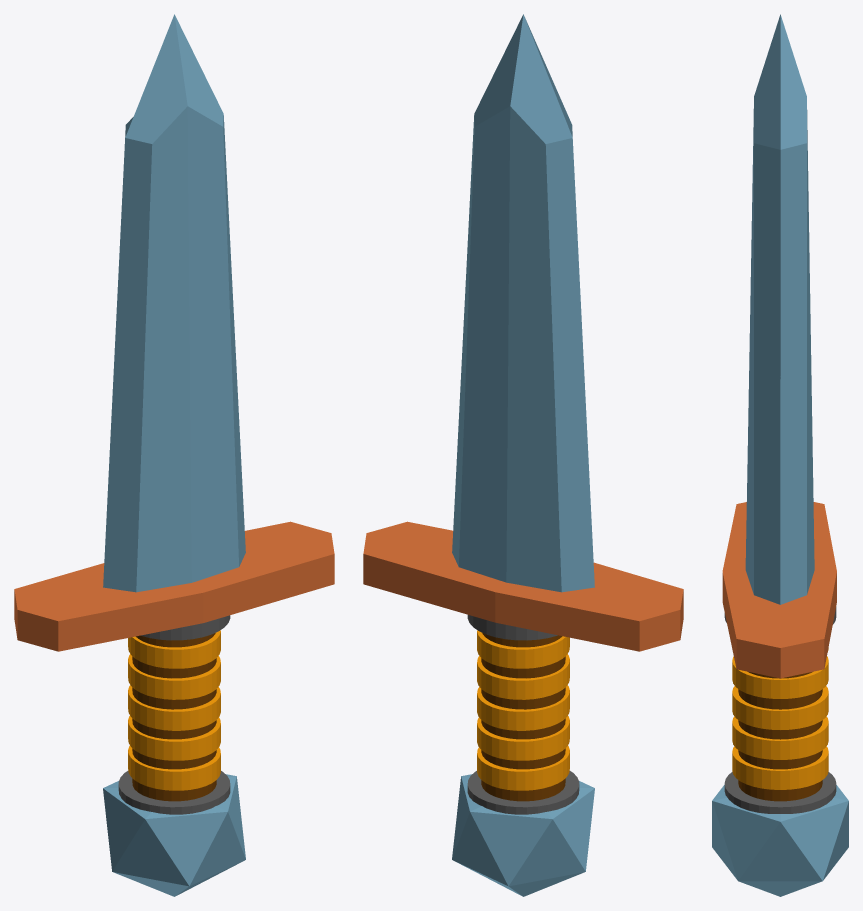
The model's file is Sword_fbx.fbx.
3 renders of one model, left to right at view 1: azimuth 30°, elevation 25°; view 2: azimuth 150°, elevation 25°; view 3: azimuth 270°, elevation 25°, orthographic.
Parts seen in each view (by area): view 1: Cube.001, Cube, Icosphere, Cylinder, Cylinder.003, Cylinder.004, Cylinder.005, Cylinder.006, Cylinder.001, Cylinder.007, Cylinder.002; view 2: Cube.001, Cube, Icosphere, Cylinder, Cylinder.003, Cylinder.004, Cylinder.005, Cylinder.006, Cylinder.001, Cylinder.007, Cylinder.002; view 3: Cube.001, Cube, Icosphere, Cylinder, Cylinder.004, Cylinder.006, Cylinder.005, Cylinder.003, Cylinder.007.
Part boxes in pixels (bbox=[...]): Cube.001: bbox=[103, 14, 245, 592]; Cube: bbox=[14, 521, 334, 651]; Icosphere: bbox=[103, 774, 245, 896]; Cylinder: bbox=[132, 633, 216, 801]; Cylinder.003: bbox=[128, 654, 220, 699]; Cylinder.004: bbox=[128, 685, 220, 730]; Cylinder.005: bbox=[128, 716, 220, 760]; Cylinder.006: bbox=[128, 745, 220, 790]; Cylinder.001: bbox=[128, 630, 220, 668]; Cylinder.007: bbox=[118, 771, 230, 814]; Cylinder.002: bbox=[141, 615, 230, 640]; Cube.001: bbox=[452, 14, 594, 592]; Cube: bbox=[363, 521, 683, 651]; Icosphere: bbox=[452, 774, 594, 896]; Cylinder: bbox=[481, 633, 565, 801]; Cylinder.003: bbox=[477, 654, 569, 699]; Cylinder.004: bbox=[477, 685, 569, 730]; Cylinder.005: bbox=[477, 716, 569, 760]; Cylinder.006: bbox=[477, 745, 569, 790]; Cylinder.001: bbox=[477, 630, 569, 668]; Cylinder.007: bbox=[467, 771, 579, 814]; Cylinder.002: bbox=[467, 615, 557, 640]; Cube.001: bbox=[745, 14, 814, 604]; Cube: bbox=[722, 502, 836, 678]; Icosphere: bbox=[712, 785, 848, 896]; Cylinder: bbox=[738, 672, 822, 801]; Cylinder.004: bbox=[732, 686, 828, 729]; Cylinder.006: bbox=[732, 746, 828, 789]; Cylinder.005: bbox=[732, 716, 828, 759]; Cylinder.003: bbox=[732, 656, 828, 698]; Cylinder.007: bbox=[724, 772, 836, 813].
Size of the model in its own units: 148 by 398 by 55.88.
